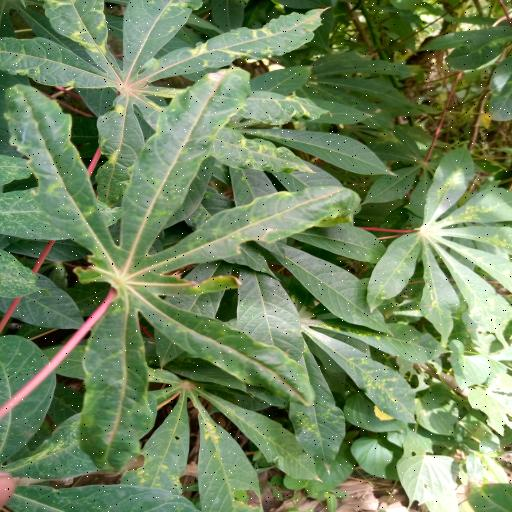Cassava_Mosaic: (0, 65, 351, 470), (6, 0, 324, 216), (369, 145, 512, 343)
